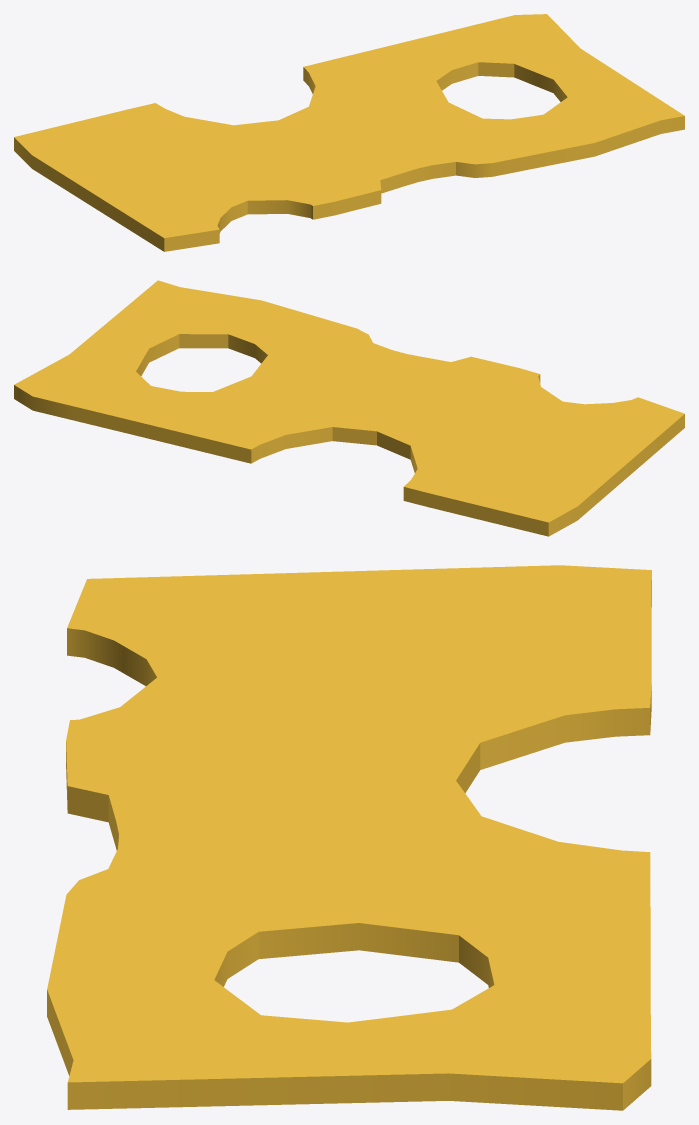
File: CheeseSliced.fbx
The picture shows the model from 3 angles, top to bottom: view 1: azimuth 30°, elevation 25°; view 2: azimuth 150°, elevation 25°; view 3: azimuth 270°, elevation 25°; orthographic projection. The views are drawn at different scales.
Parts seen in each view (by area): view 1: cheese slice; view 2: cheese slice; view 3: cheese slice.
Boxes of the visible parts, x1,y1,x2,y2 form: cheese slice: [14, 14, 684, 251]; cheese slice: [14, 280, 684, 536]; cheese slice: [47, 565, 651, 1110].
Size of the model in its own units: 18.47 by 0.4556 by 9.11.
